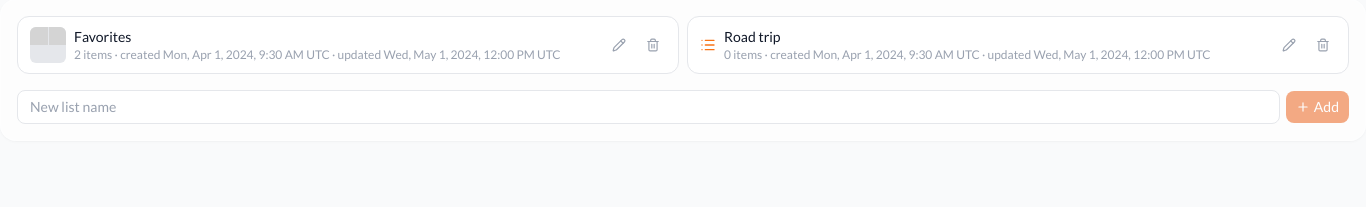
Test: MusicListsSection › creates, renames and deletes lists from the index
The width and height of the screenshot is (1366, 207).
Expected: the text "Favorites" is shown, x1=74 y1=28 x2=131 y2=45
Type "Chill" into the field labelled "New list name".
click(648, 107); type("Chill")  # box x1=17 y1=90 x2=1280 y2=124
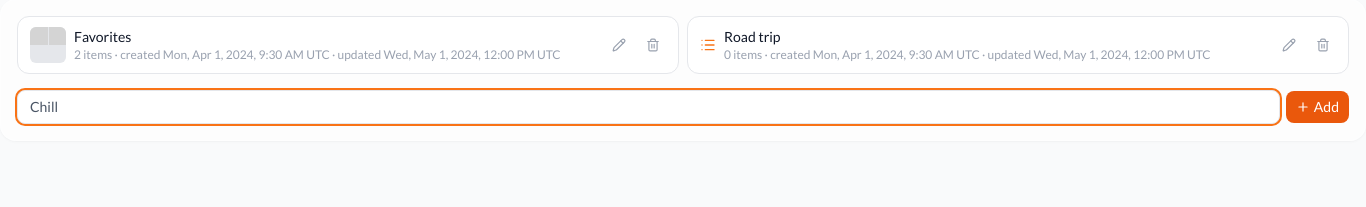
Click the button "Add".
click(1317, 107)  # box x1=1286 y1=91 x2=1349 y2=123
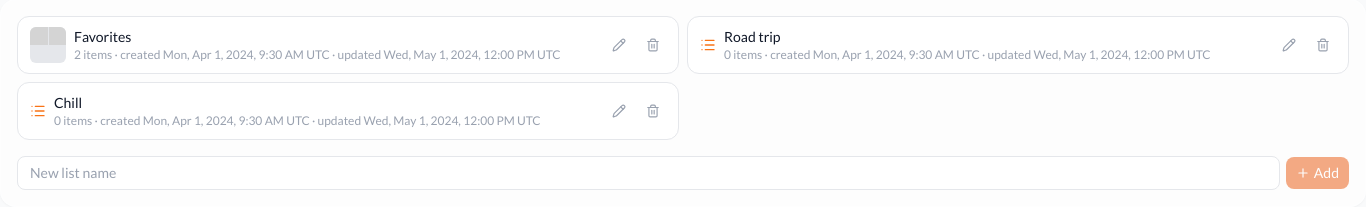
Expected: the text "Chill" is shown, x1=54 y1=94 x2=82 y2=111
Click the button named "Rename Chill".
click(619, 111)  # box x1=606 y1=98 x2=632 y2=124
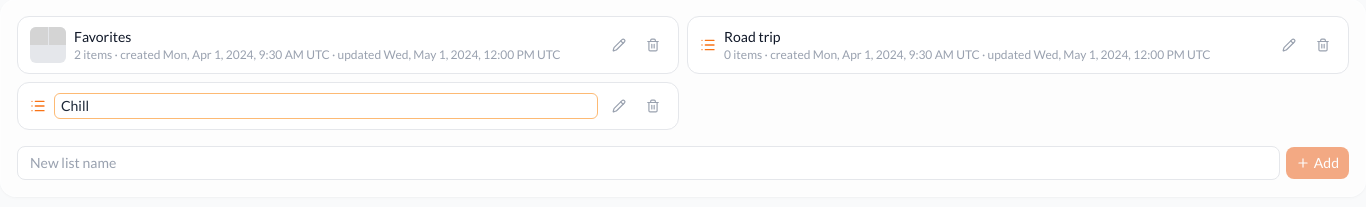
Replace the text in the field named "Rename list Chill" with "Mellow" at (326, 106), box x1=54 y1=93 x2=598 y2=119
Then press Enter
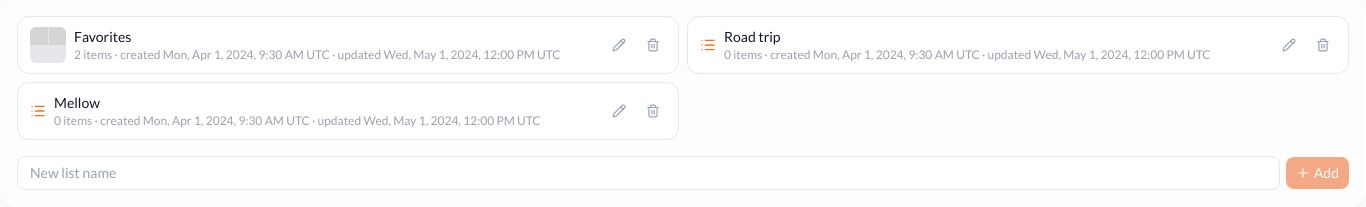
Expected: the text "Mellow" is shown, x1=54 y1=94 x2=100 y2=111
Click the button named "Delete Mellow".
click(653, 111)  # box x1=640 y1=98 x2=666 y2=124
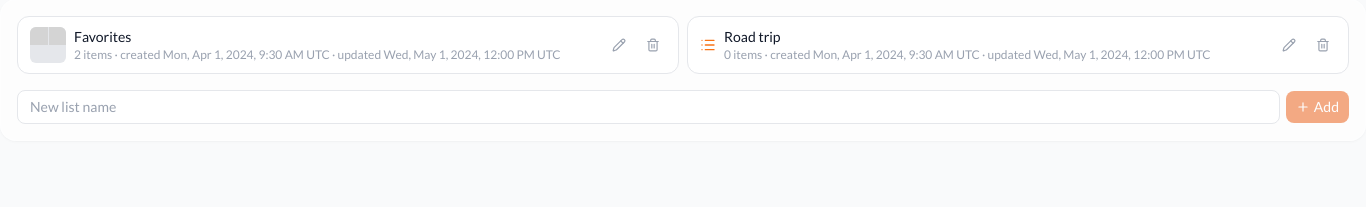
Expected: the button "Mellow" is gone
